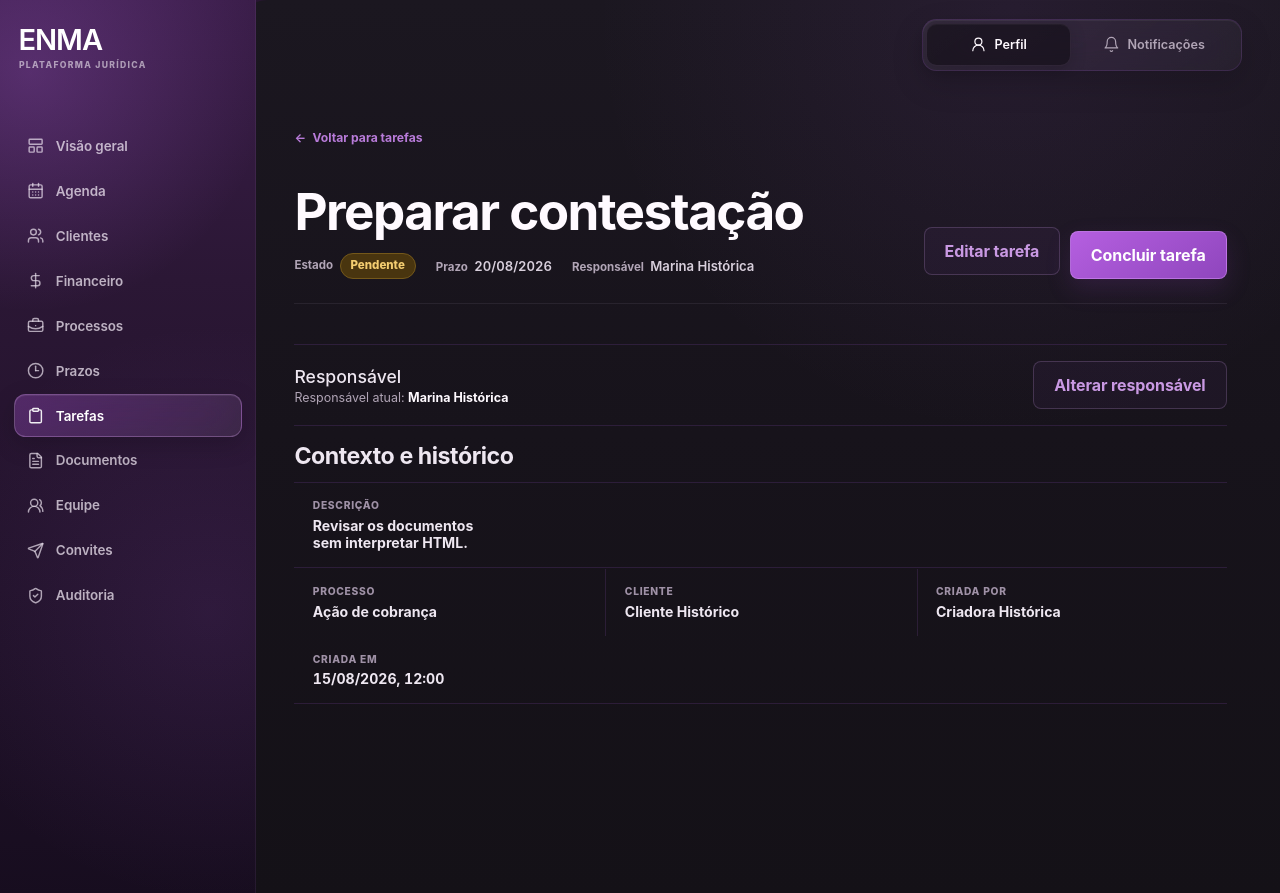
Test: Tasks D2 detail flow › TaskAssignment_ManagerUsesActiveLookupAndMembershipOnlyPayload
This screenshot has width=1280, height=893.
Expected: the heading "Preparar contestação" is shown, 294,185 -> 804,238
Step 1. Click the button "Alterar responsável" → [1130, 385], box 1033,361 -> 1227,409
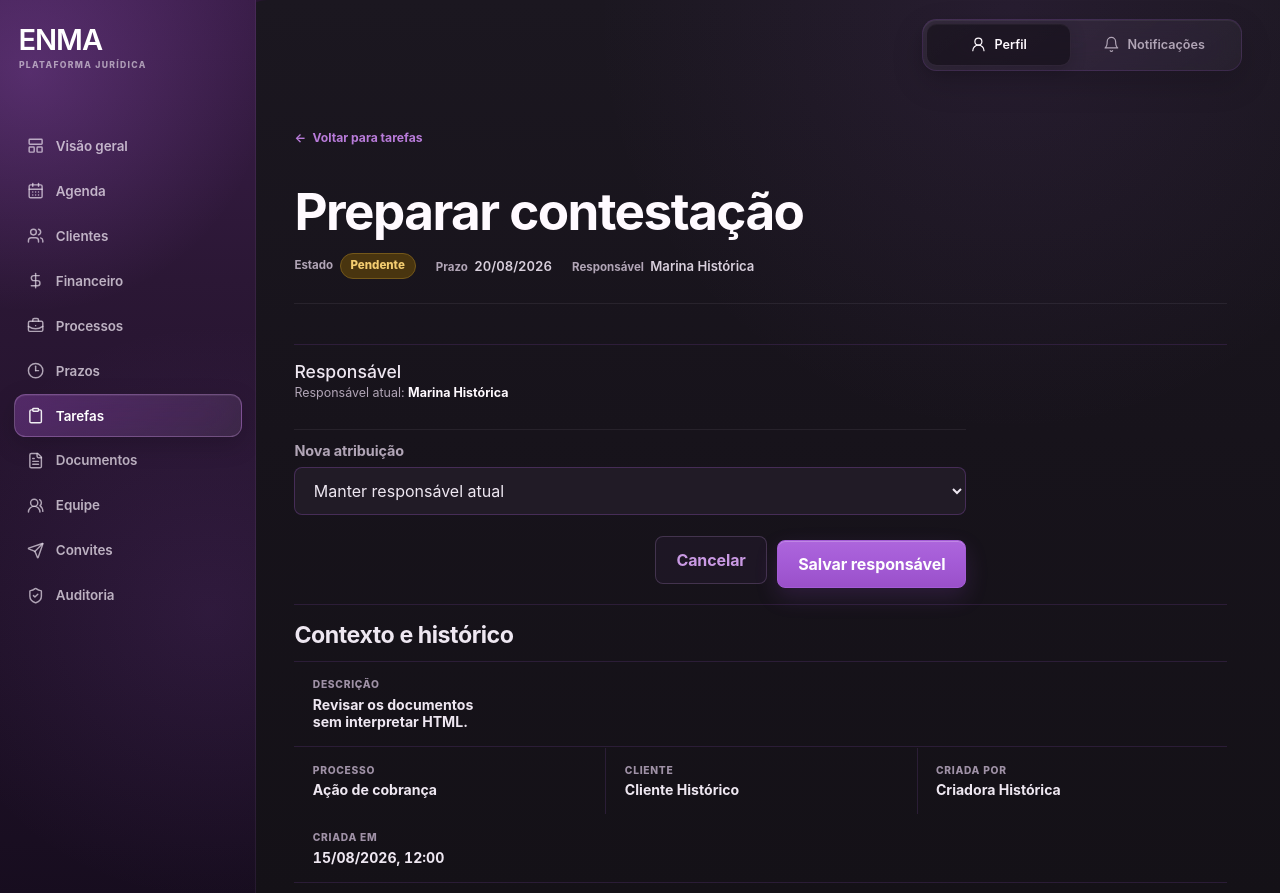
Step 2. Select "Outra pessoa" in the dropdown labelled "Nova atribuição" → [630, 491], box 294,467 -> 966,515
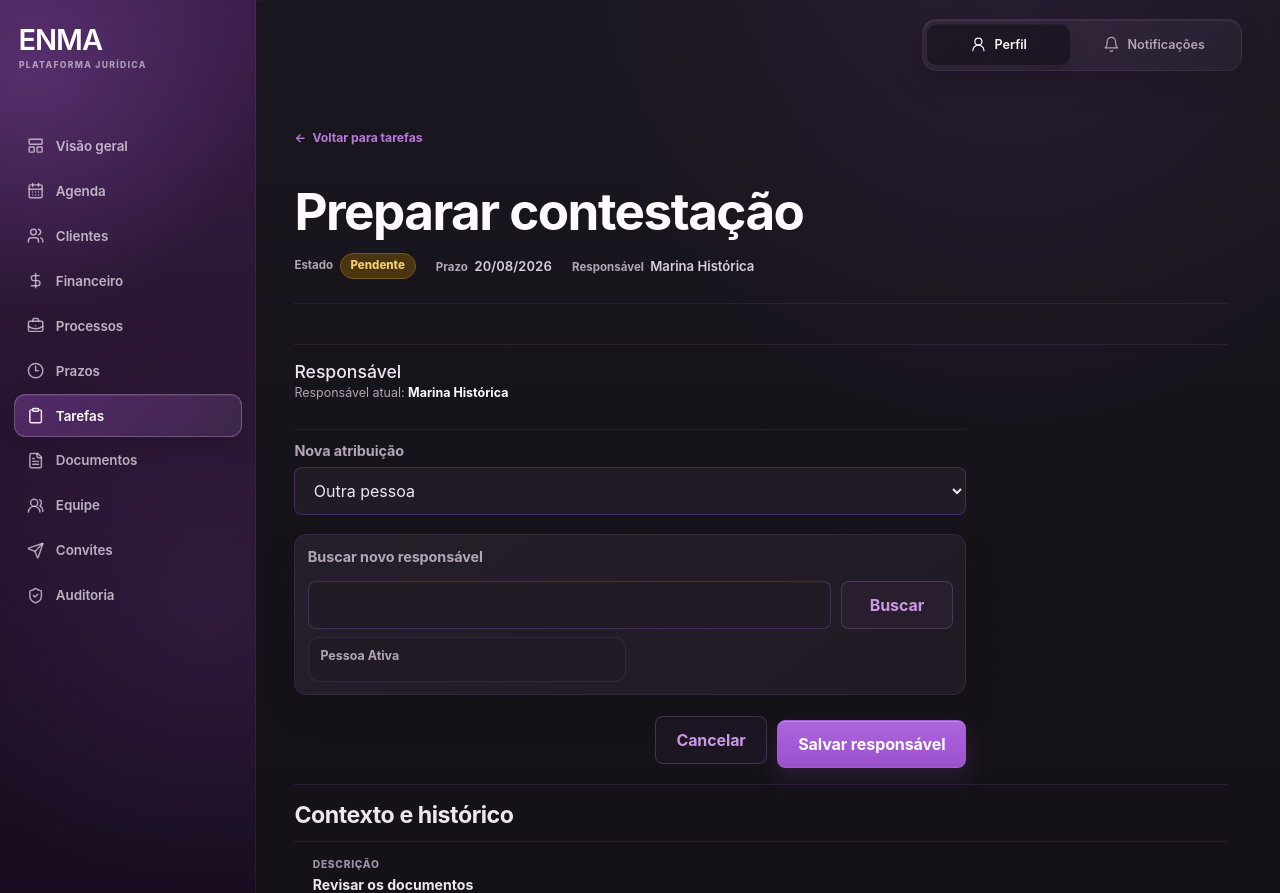
Step 3. Click the button "Pessoa Ativa" → [360, 655], box 308,637 -> 626,682
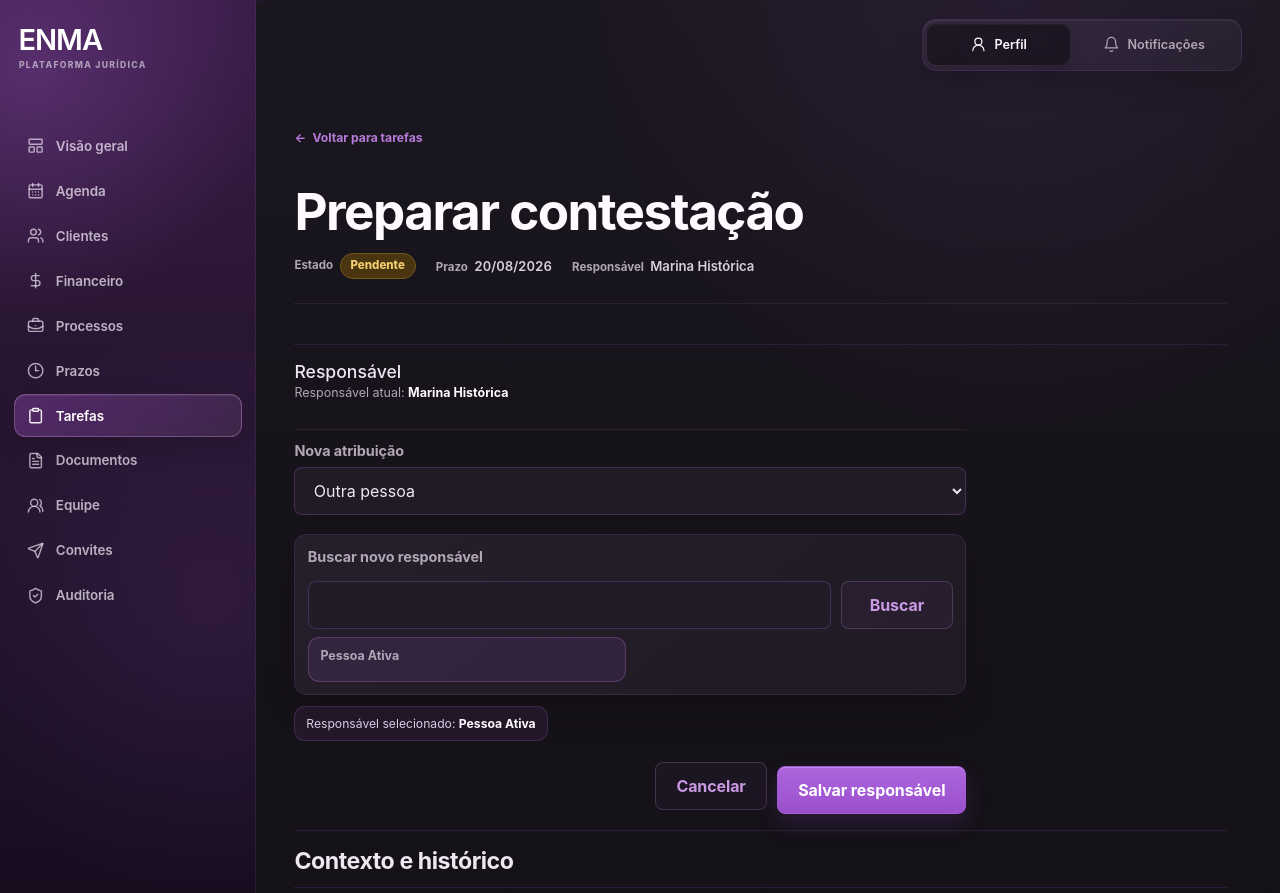
Step 4. Click the button "Salvar responsável" → [872, 790], box 777,766 -> 966,814
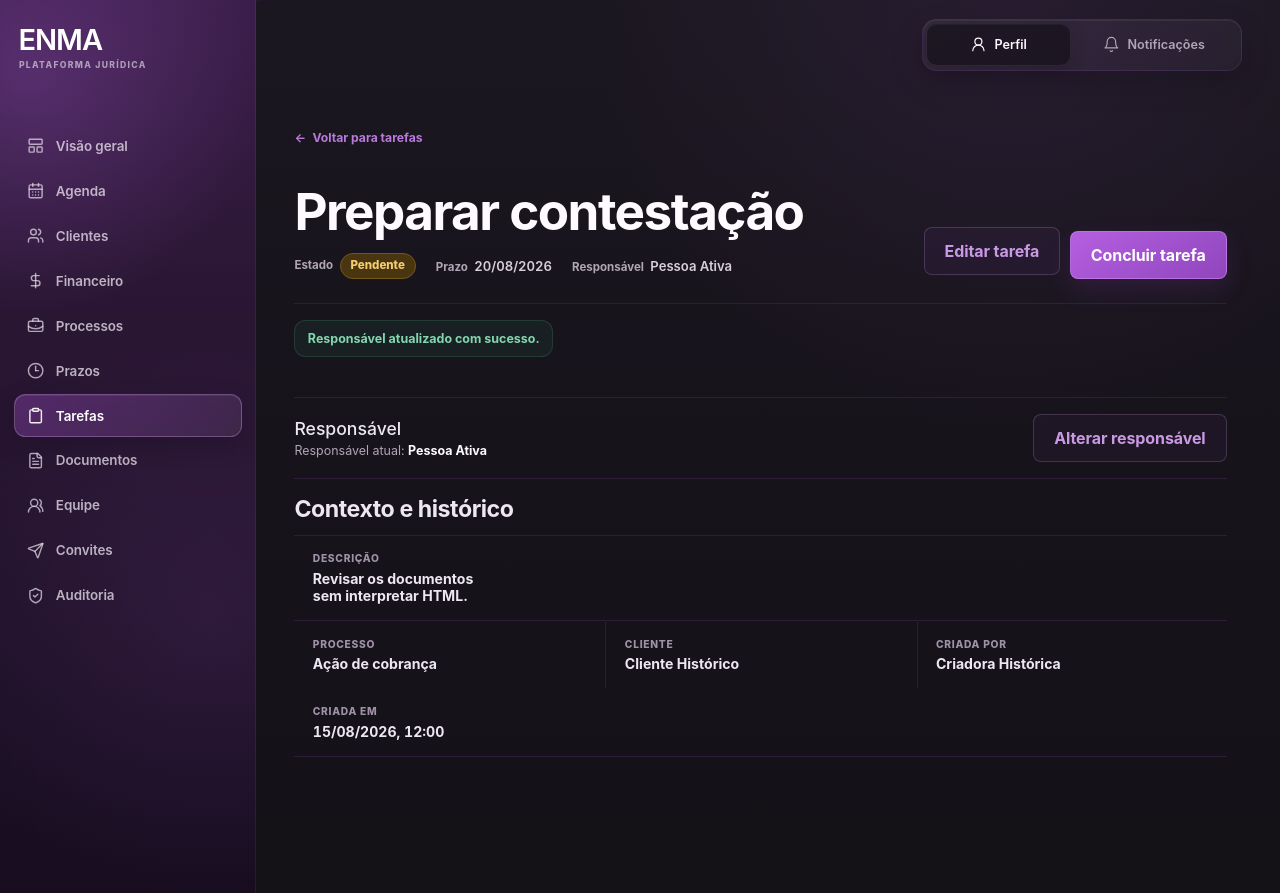
Now the text "Responsável atualizado com sucesso." is shown, box 294,320 -> 553,357
